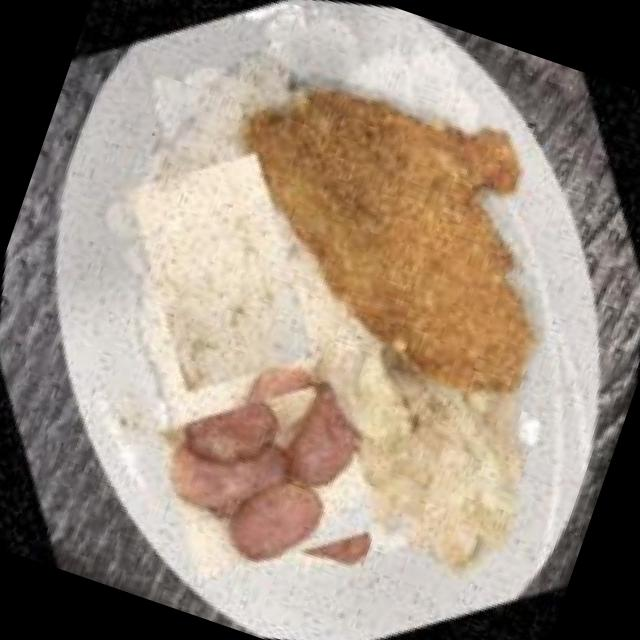chinese_cabbage: (263, 280, 606, 640)
chinese_sausage: (96, 293, 458, 640)
fried_chicken: (118, 0, 640, 533)
rice: (53, 93, 386, 448)
